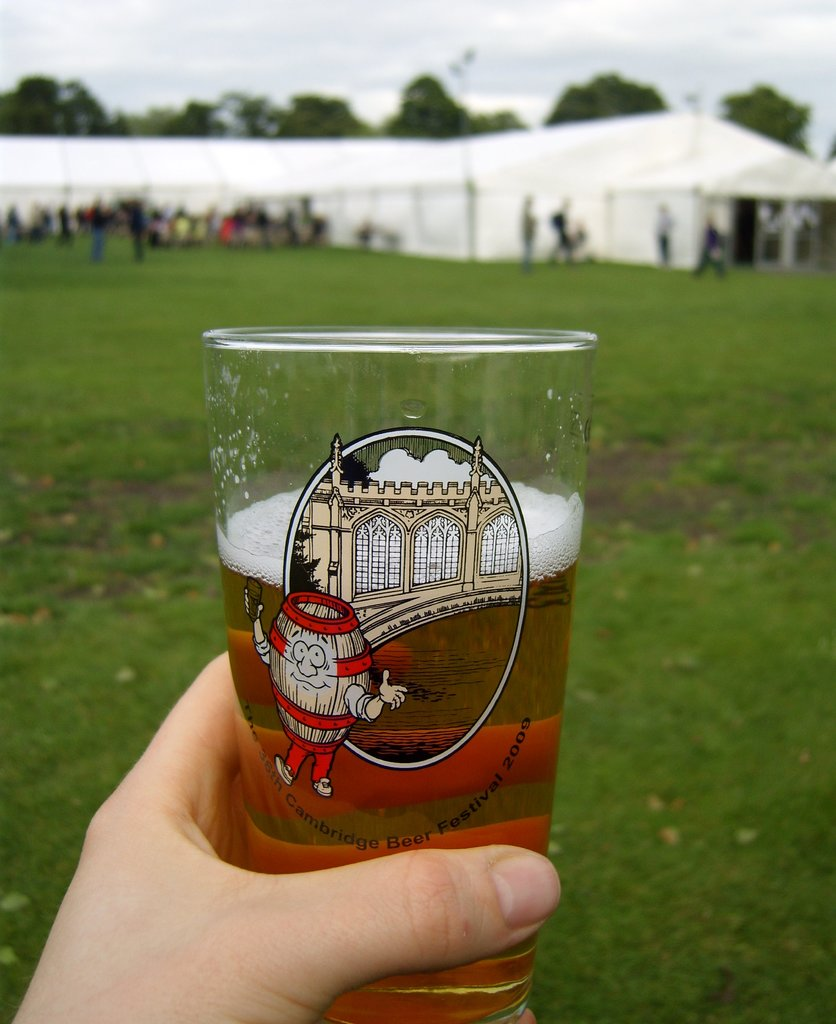Beer: (214, 473, 581, 1023)
